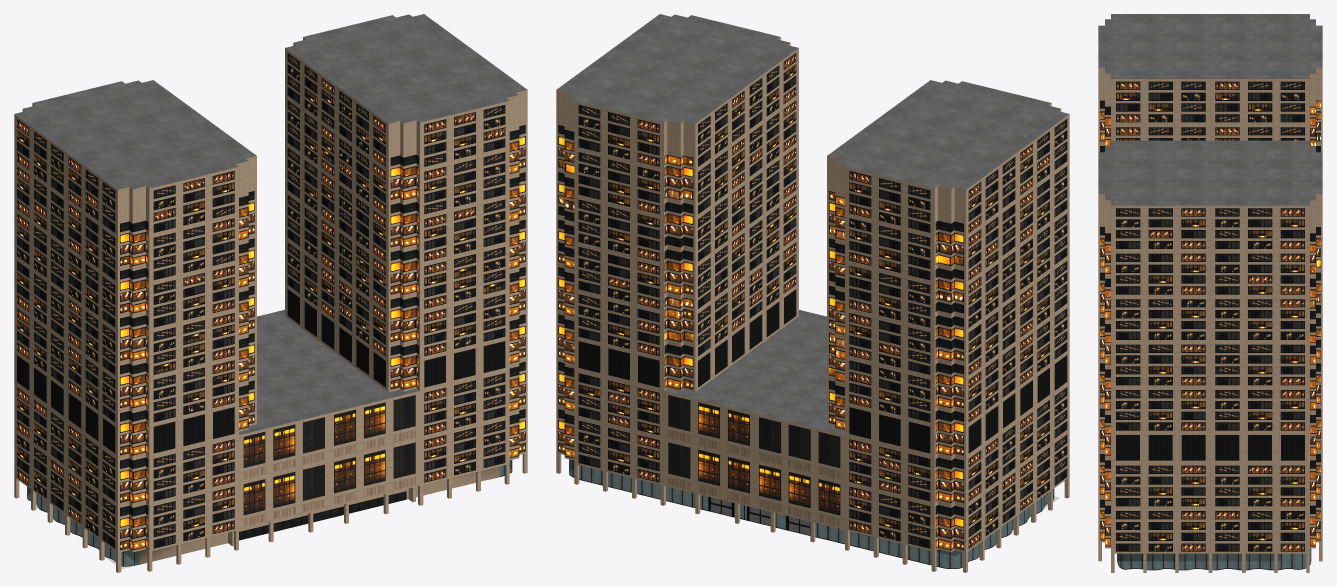
3 renders of one model, left to right at view 1: azimuth 30°, elevation 25°; view 2: azimuth 150°, elevation 25°; view 3: azimuth 270°, elevation 25°, orthographic. The views are drawn at different scales.
Visible parts, largest first — view 1: Office Building; view 2: Office Building; view 3: Office Building.
Boxes of the visible parts, left/top/right/bottom form: Office Building: left=14, top=14, right=527, bottom=572; Office Building: left=556, top=14, right=1069, bottom=572; Office Building: left=1098, top=14, right=1322, bottom=572.
Size of the model in its own units: 37.09 by 33.19 by 18.36.
7 materials, 7 textured.
